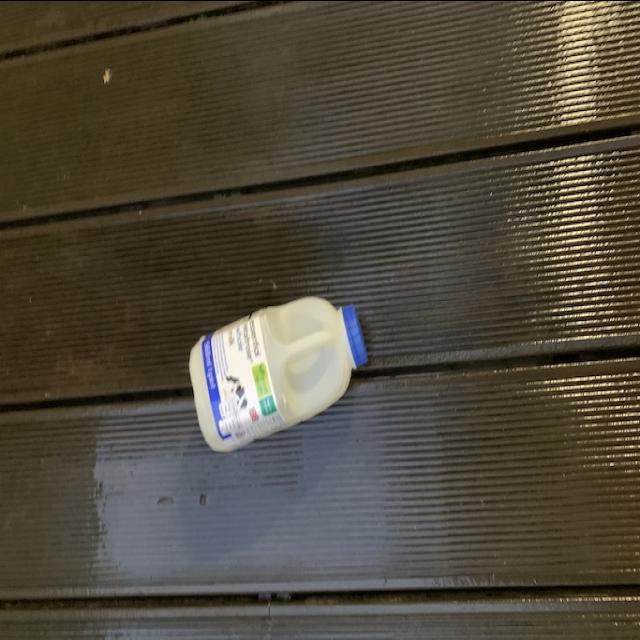HDPEM: (186, 292, 370, 452)
